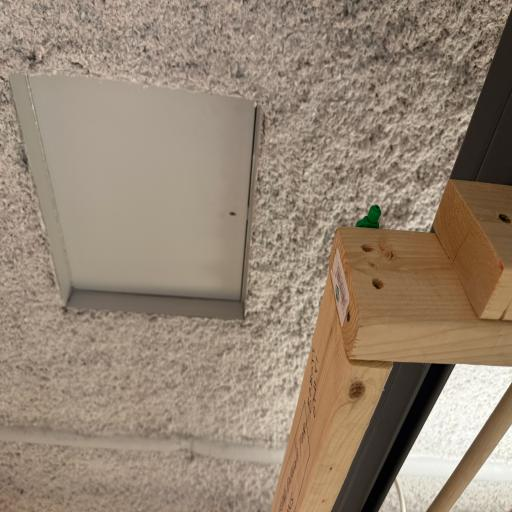Lego-Dude: (356, 205, 381, 229)
